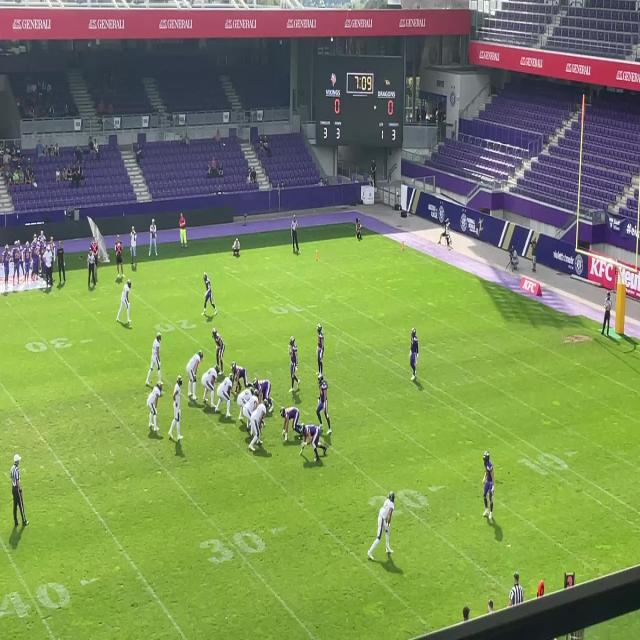1: (514, 456, 555, 479)
3: (198, 532, 235, 570)
4: (1, 584, 34, 627)
american-football-players: (366, 493, 394, 560), (298, 423, 330, 463), (168, 376, 186, 441), (315, 376, 334, 436), (480, 452, 496, 522), (114, 277, 133, 328), (250, 400, 268, 449), (147, 378, 162, 436), (148, 332, 164, 386), (201, 364, 220, 406), (201, 275, 219, 318), (287, 335, 300, 394), (216, 374, 233, 419), (254, 378, 274, 416), (408, 328, 421, 385), (212, 327, 226, 370), (315, 322, 326, 375), (236, 386, 254, 417), (231, 361, 250, 390), (244, 388, 258, 426)
